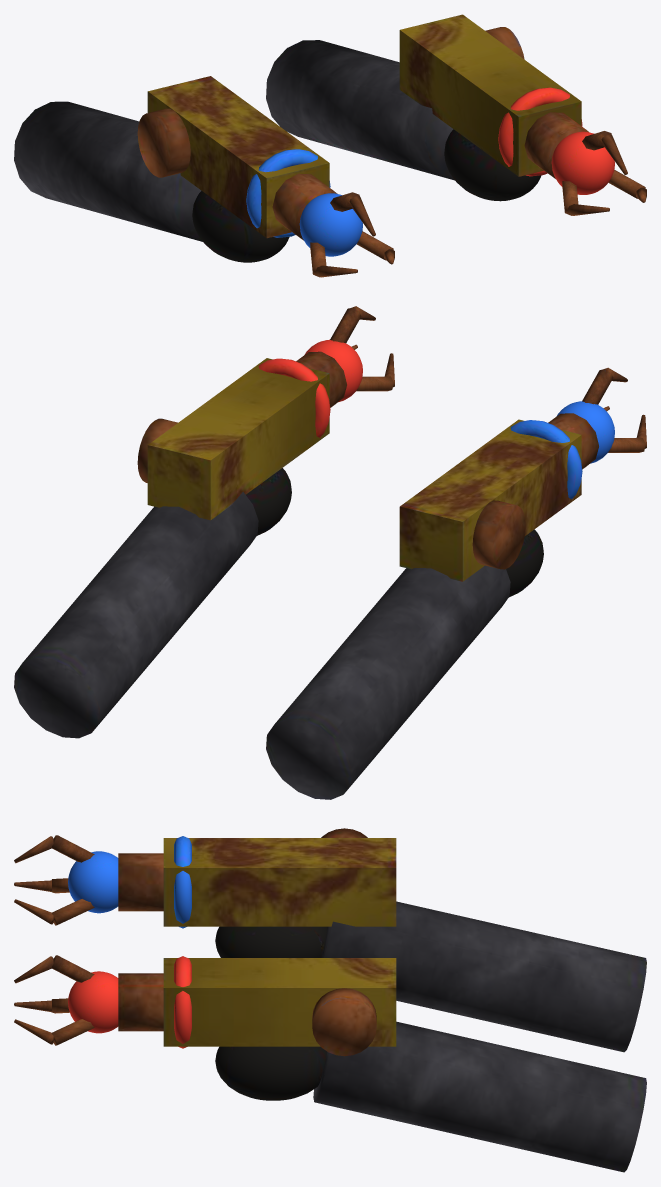
Rendered from clawpack.glb.
3 renders of one model, top to bottom at view 1: azimuth 30°, elevation 25°; view 2: azimuth 150°, elevation 25°; view 3: azimuth 270°, elevation 25°, orthographic. The views are drawn at different scales.
Parts seen in each view (by area): view 1: Main, HeadL, HeadR; view 2: Main, HeadR, HeadL; view 3: Main, HeadR, HeadL.
Boxes of the visible parts, x1,y1,x2,y2 form: Main: (14,14,588,262); HeadL: (299,192,394,277); HeadR: (551,131,646,215); Main: (14,351,598,799); HeadR: (304,306,394,402); HeadL: (556,367,646,463); Main: (118,828,646,1172); HeadR: (14,955,118,1045); HeadL: (14,835,118,925).
Size of the model in its own units: 0.62 by 0.3632 by 0.9797.
3 materials, 3 textured.
